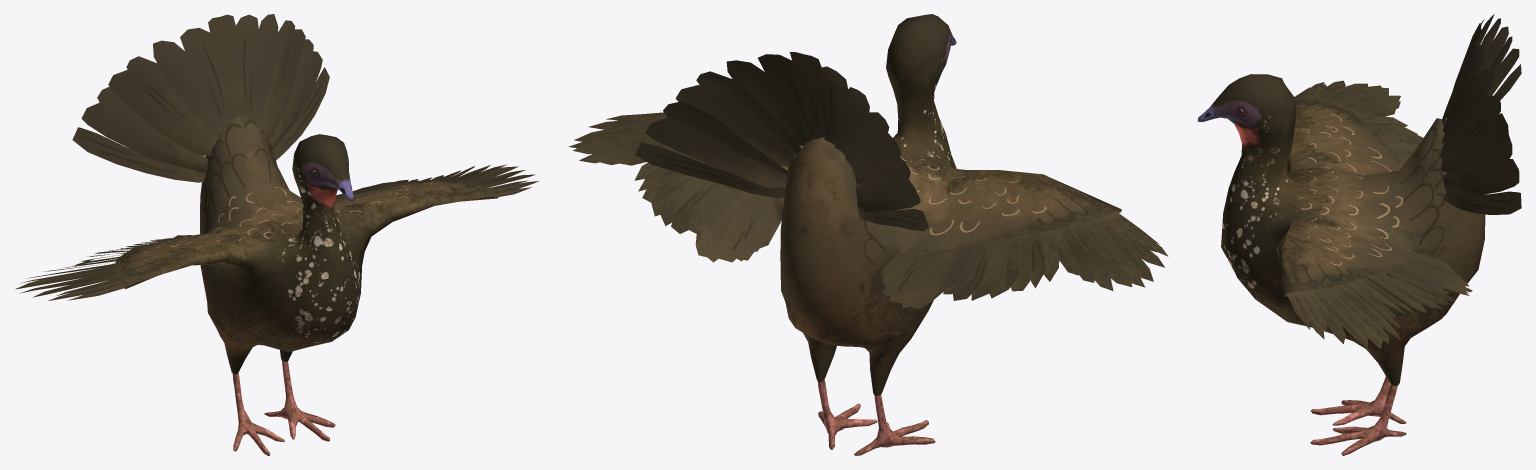
The model's file is Pava_PBR.glb.
3 views of the same model, side by side, from view 1: azimuth 30°, elevation 25°; view 2: azimuth 150°, elevation 25°; view 3: azimuth 270°, elevation 25° (orthographic). The views are drawn at different scales.
Parts seen in each view (by area): view 1: Pava_MAIN_Geo; view 2: Pava_MAIN_Geo; view 3: Pava_MAIN_Geo.
Part boxes in pixels (x1=…): Pava_MAIN_Geo: x1=15, y1=14, x2=538, y2=455; Pava_MAIN_Geo: x1=568, y1=14, x2=1168, y2=455; Pava_MAIN_Geo: x1=1197, y1=14, x2=1521, y2=455.
Size of the model in its own units: 14.32 by 10.13 by 7.39.
Materials: 1 (1 with a texture image).
